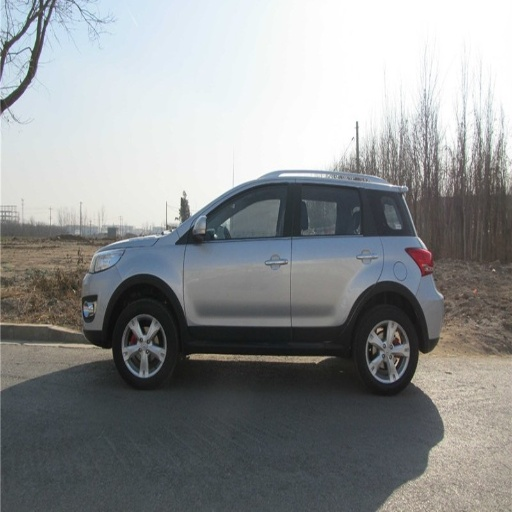back_left_door: (292, 179, 382, 340)
front_left_door: (184, 180, 292, 339)
